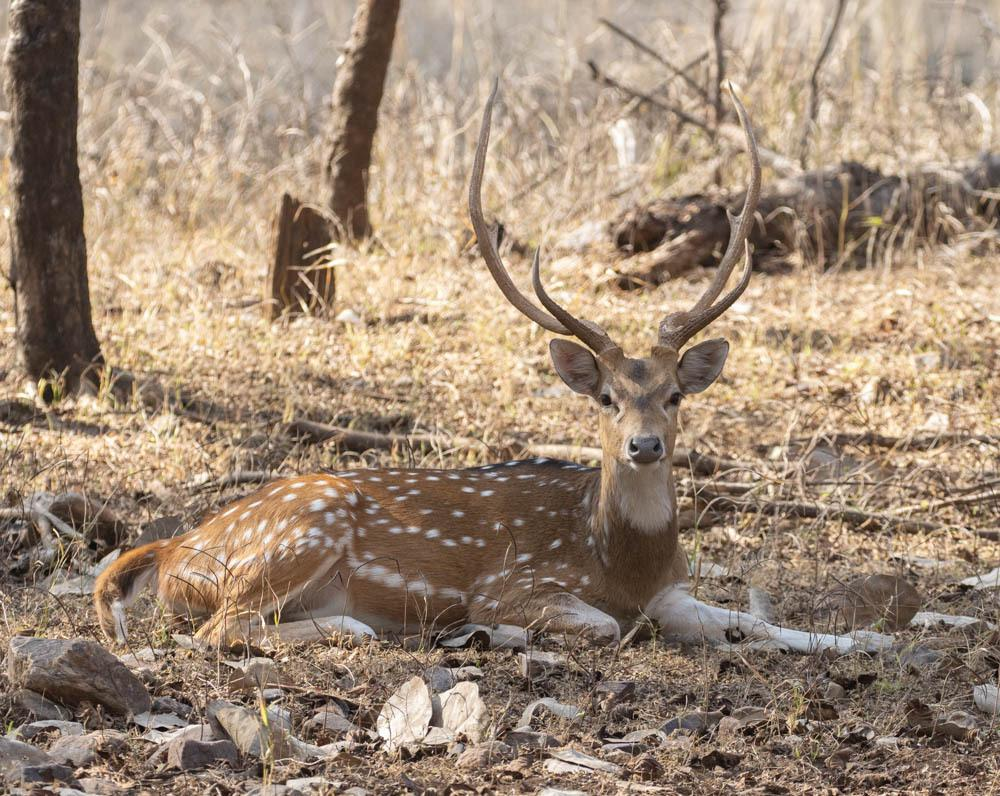Deer: (94, 80, 881, 653)
